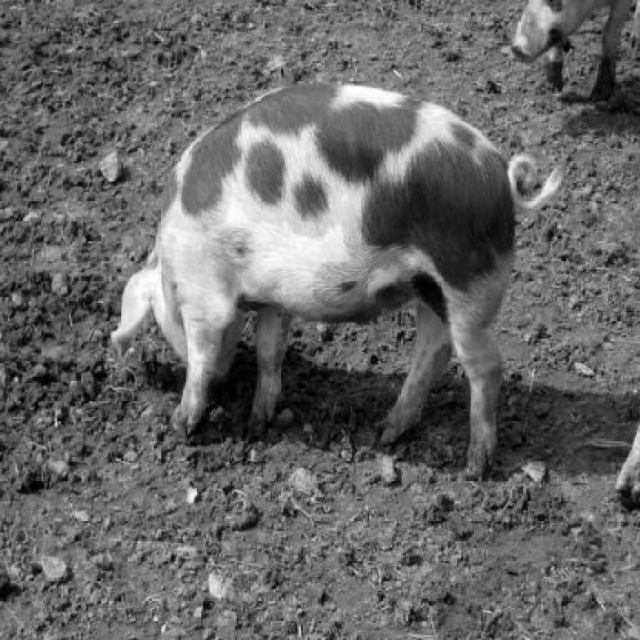Boar: (109, 80, 565, 480), (511, 0, 640, 100), (611, 423, 640, 502)
